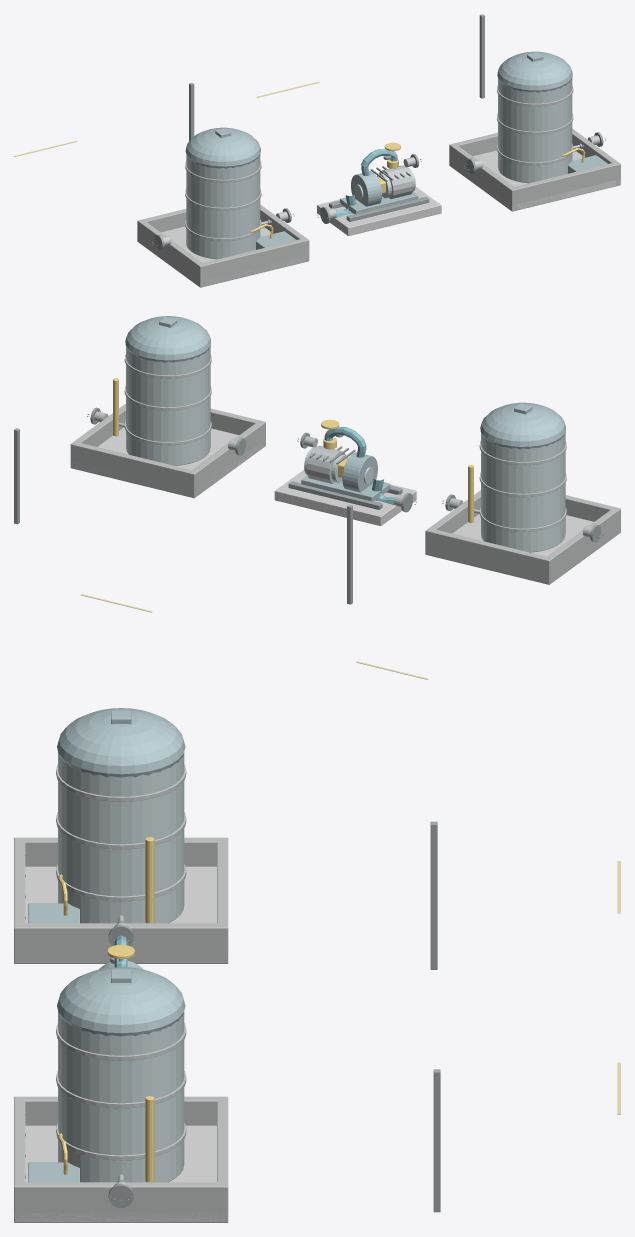
The picture shows the model from 3 angles, top to bottom: view 1: azimuth 30°, elevation 25°; view 2: azimuth 150°, elevation 25°; view 3: azimuth 270°, elevation 25°; orthographic projection. The views are drawn at different scales.
Parts seen in each view (by area): view 1: render-batch-6, render-batch-4, render-batch-3, render-batch-7, render-batch-5, render-batch-1, render-batch-2, render-batch-0, render-batch-9; view 2: render-batch-6, render-batch-4, render-batch-3, render-batch-7, render-batch-5, render-batch-1, render-batch-2, render-batch-9, render-batch-0; view 3: render-batch-6, render-batch-4, render-batch-3, render-batch-7, render-batch-5, render-batch-9, render-batch-2, render-batch-1.
Part boxes in pixels (x1,y1,x2,y2): render-batch-6: [186, 78, 572, 259]; render-batch-4: [137, 128, 620, 287]; render-batch-3: [185, 51, 607, 249]; render-batch-7: [161, 150, 620, 284]; render-batch-5: [162, 85, 599, 246]; render-batch-1: [151, 132, 606, 250]; render-batch-2: [189, 14, 484, 140]; render-batch-0: [336, 149, 397, 217]; render-batch-9: [250, 142, 585, 238]; render-batch-6: [126, 346, 565, 552]; render-batch-4: [70, 404, 620, 584]; render-batch-3: [125, 316, 565, 501]; render-batch-7: [71, 427, 593, 556]; render-batch-5: [94, 354, 592, 537]; render-batch-1: [87, 407, 604, 542]; render-batch-2: [14, 428, 352, 604]; render-batch-9: [113, 378, 473, 522]; render-batch-0: [324, 427, 394, 504]; render-batch-6: [58, 752, 184, 1182]; render-batch-4: [14, 837, 228, 1222]; render-batch-3: [28, 708, 185, 1182]; render-batch-7: [14, 866, 228, 1222]; render-batch-5: [56, 764, 186, 1185]; render-batch-9: [58, 837, 154, 1182]; render-batch-2: [430, 821, 440, 1212]; render-batch-1: [25, 853, 133, 1207].
Bounding box in the file's own units: 23.25 × 5.89 × 15.85.
